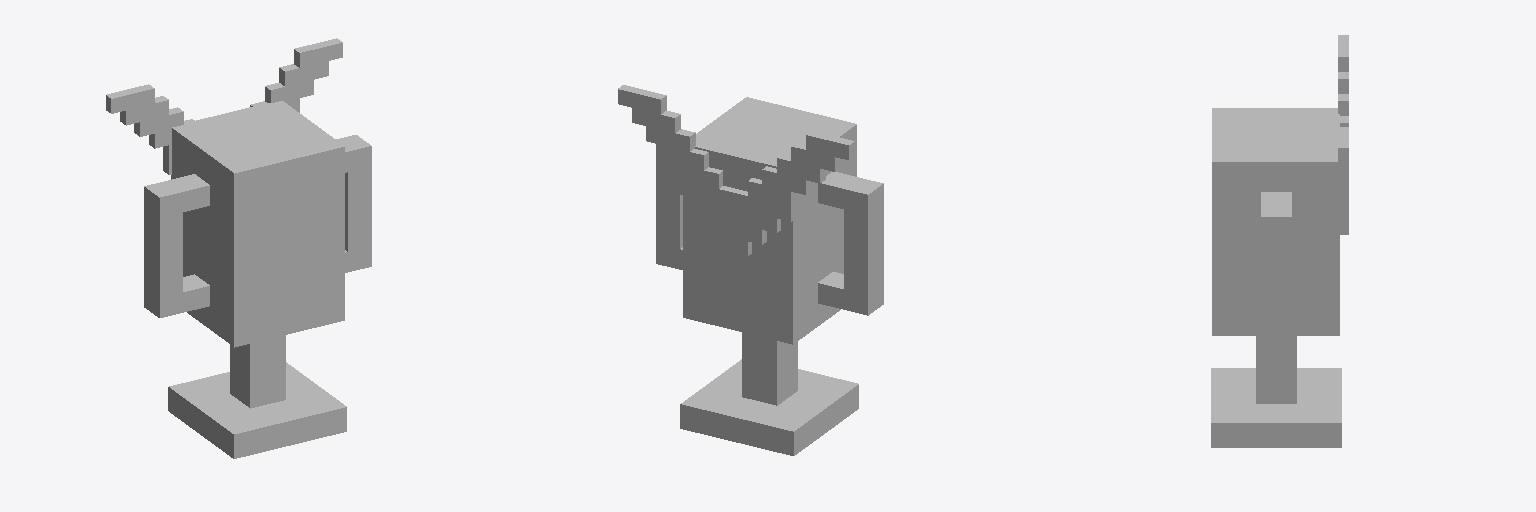
Rendered from victiniblock.obj.
The picture shows the model from 3 angles: view 1: azimuth 30°, elevation 25°; view 2: azimuth 150°, elevation 25°; view 3: azimuth 270°, elevation 25°; orthographic projection.
Parts seen in each view (by area): view 1: metal; view 2: metal; view 3: metal.
Part boxes in pixels (x1,y1,x2,y2): metal: (106, 38, 371, 458); metal: (618, 85, 883, 455); metal: (1211, 35, 1348, 447).
Size of the model in its own units: 0.9769 by 1.32 by 0.5066.